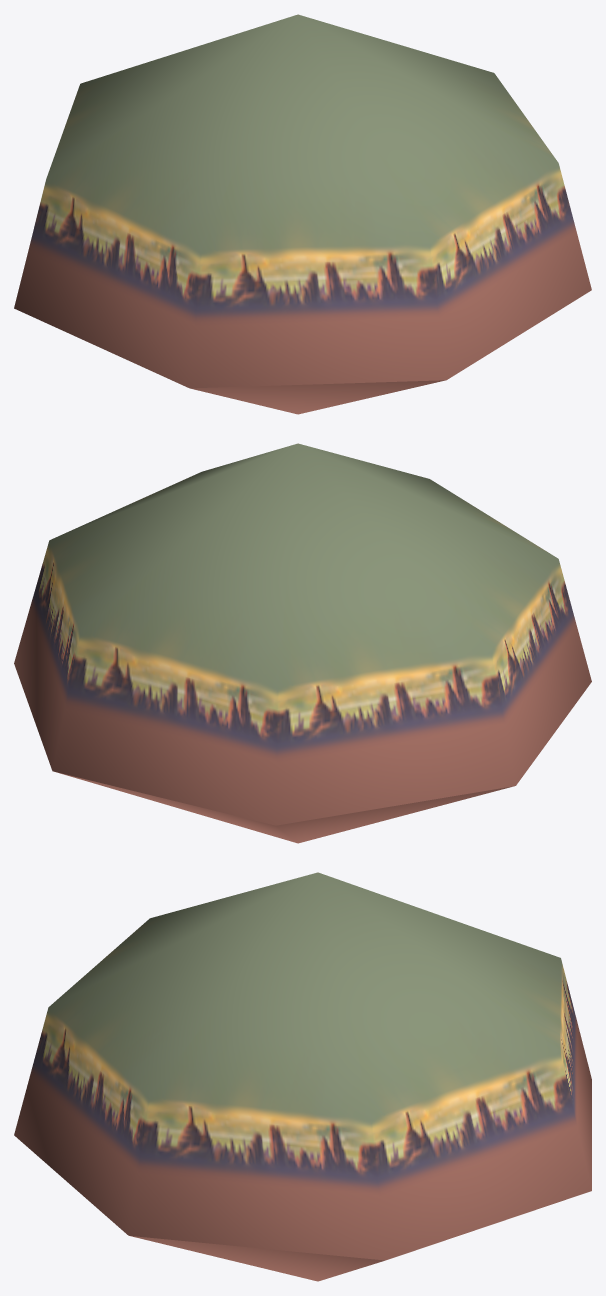
The model's file is Desert_env.FBX.
The picture shows the model from 3 angles, top to bottom: view 1: azimuth 30°, elevation 25°; view 2: azimuth 150°, elevation 25°; view 3: azimuth 270°, elevation 25°; orthographic projection. The views are drawn at different scales.
Parts seen in each view (by area): view 1: Evmap; view 2: Evmap; view 3: Evmap.
Part boxes in pixels (x1,y1,x2,y2): Evmap: [14, 14, 591, 414]; Evmap: [14, 443, 591, 843]; Evmap: [14, 872, 591, 1281].
Bounding box in the file's own units: 80866 × 61589 × 78839.
